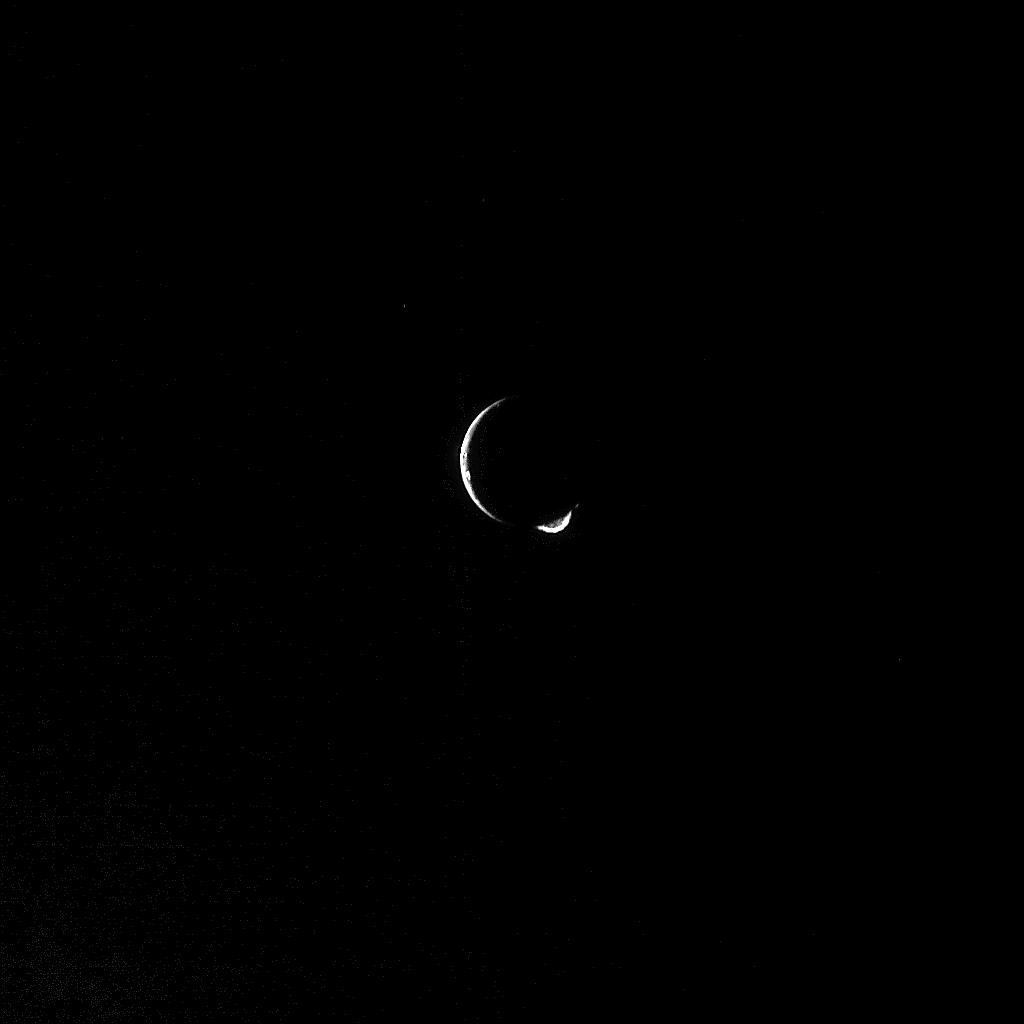plumes: (536, 506, 576, 533)
